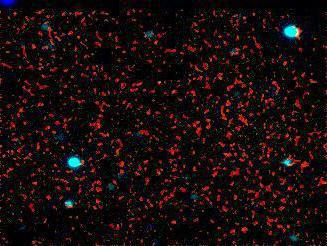star: (232, 215, 262, 245)
